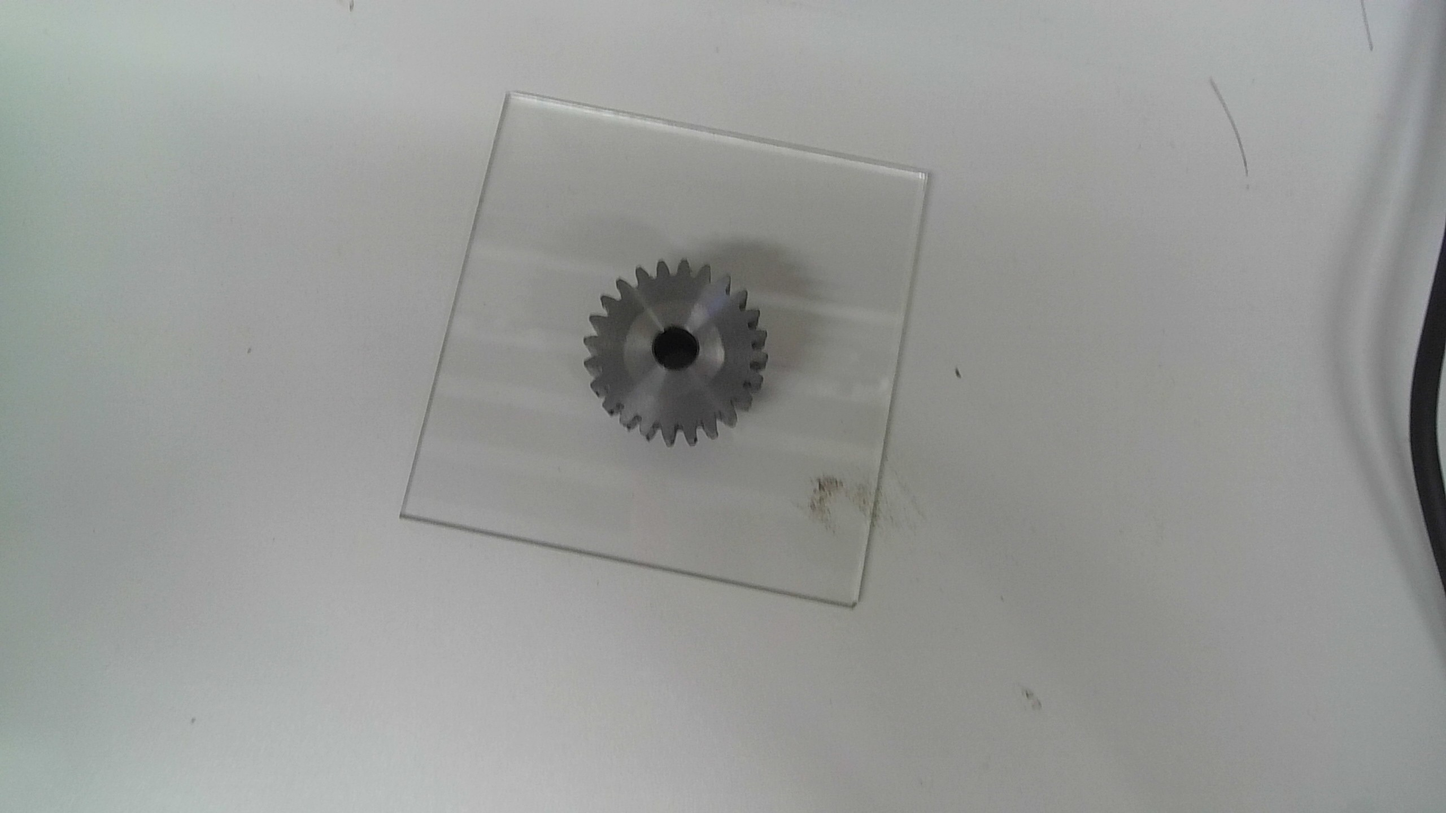gear: (580, 255, 770, 450)
